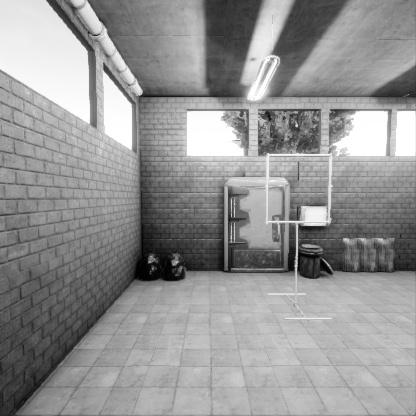gate: (266, 195, 336, 264)
